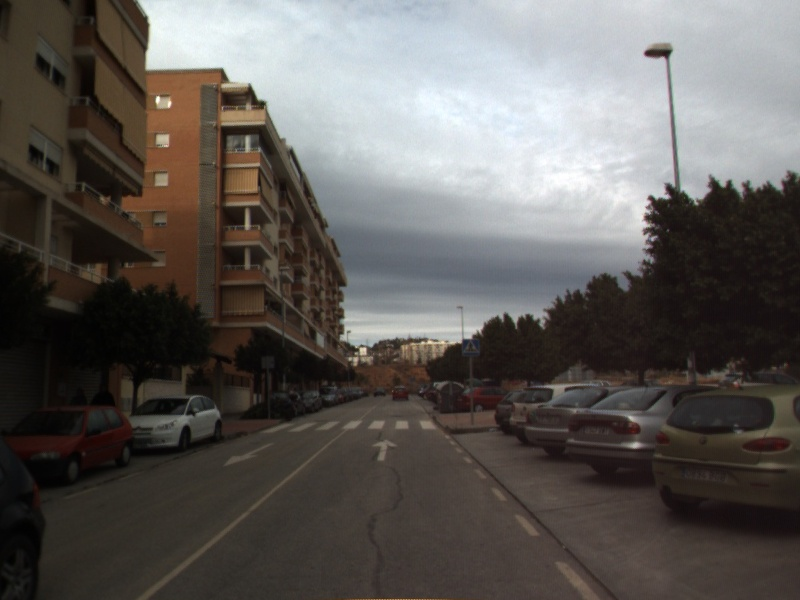STRAIGHT: (370, 437, 400, 463)
